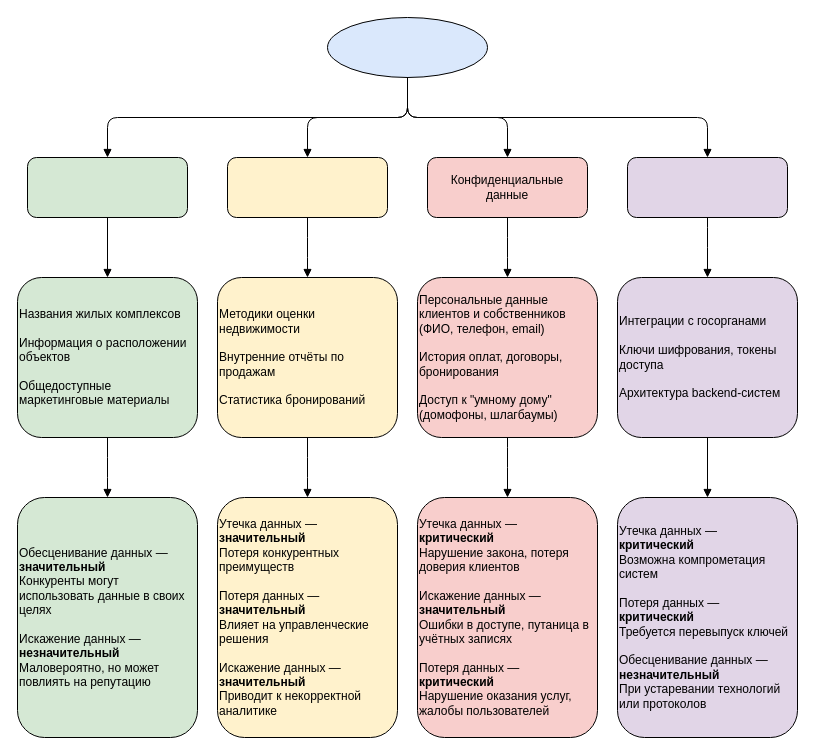
The diagram is 815 pixels wide and 755 high, and some of its shapes have lost their labels. The shapes that lost their labels are listed below. From the top down, each one's centre as x and y in pixels, then its label:
point 407,47: Безопасность данных
point 107,187: Публичные данные
point 307,187: Внутренние данные
point 707,187: Секретные данные
